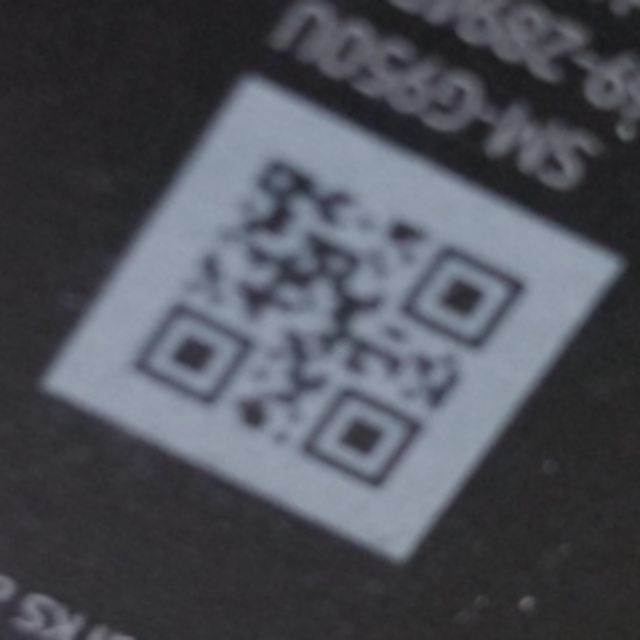qr-code: (112, 136, 554, 516)
